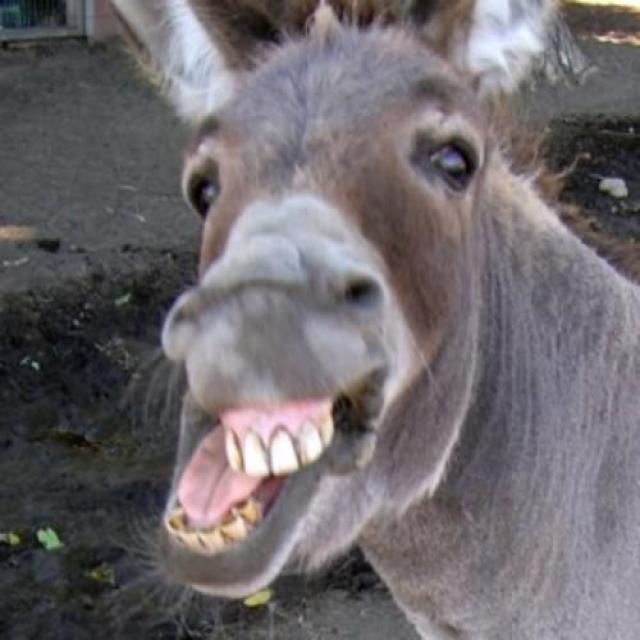Donkey: (109, 0, 640, 639)
